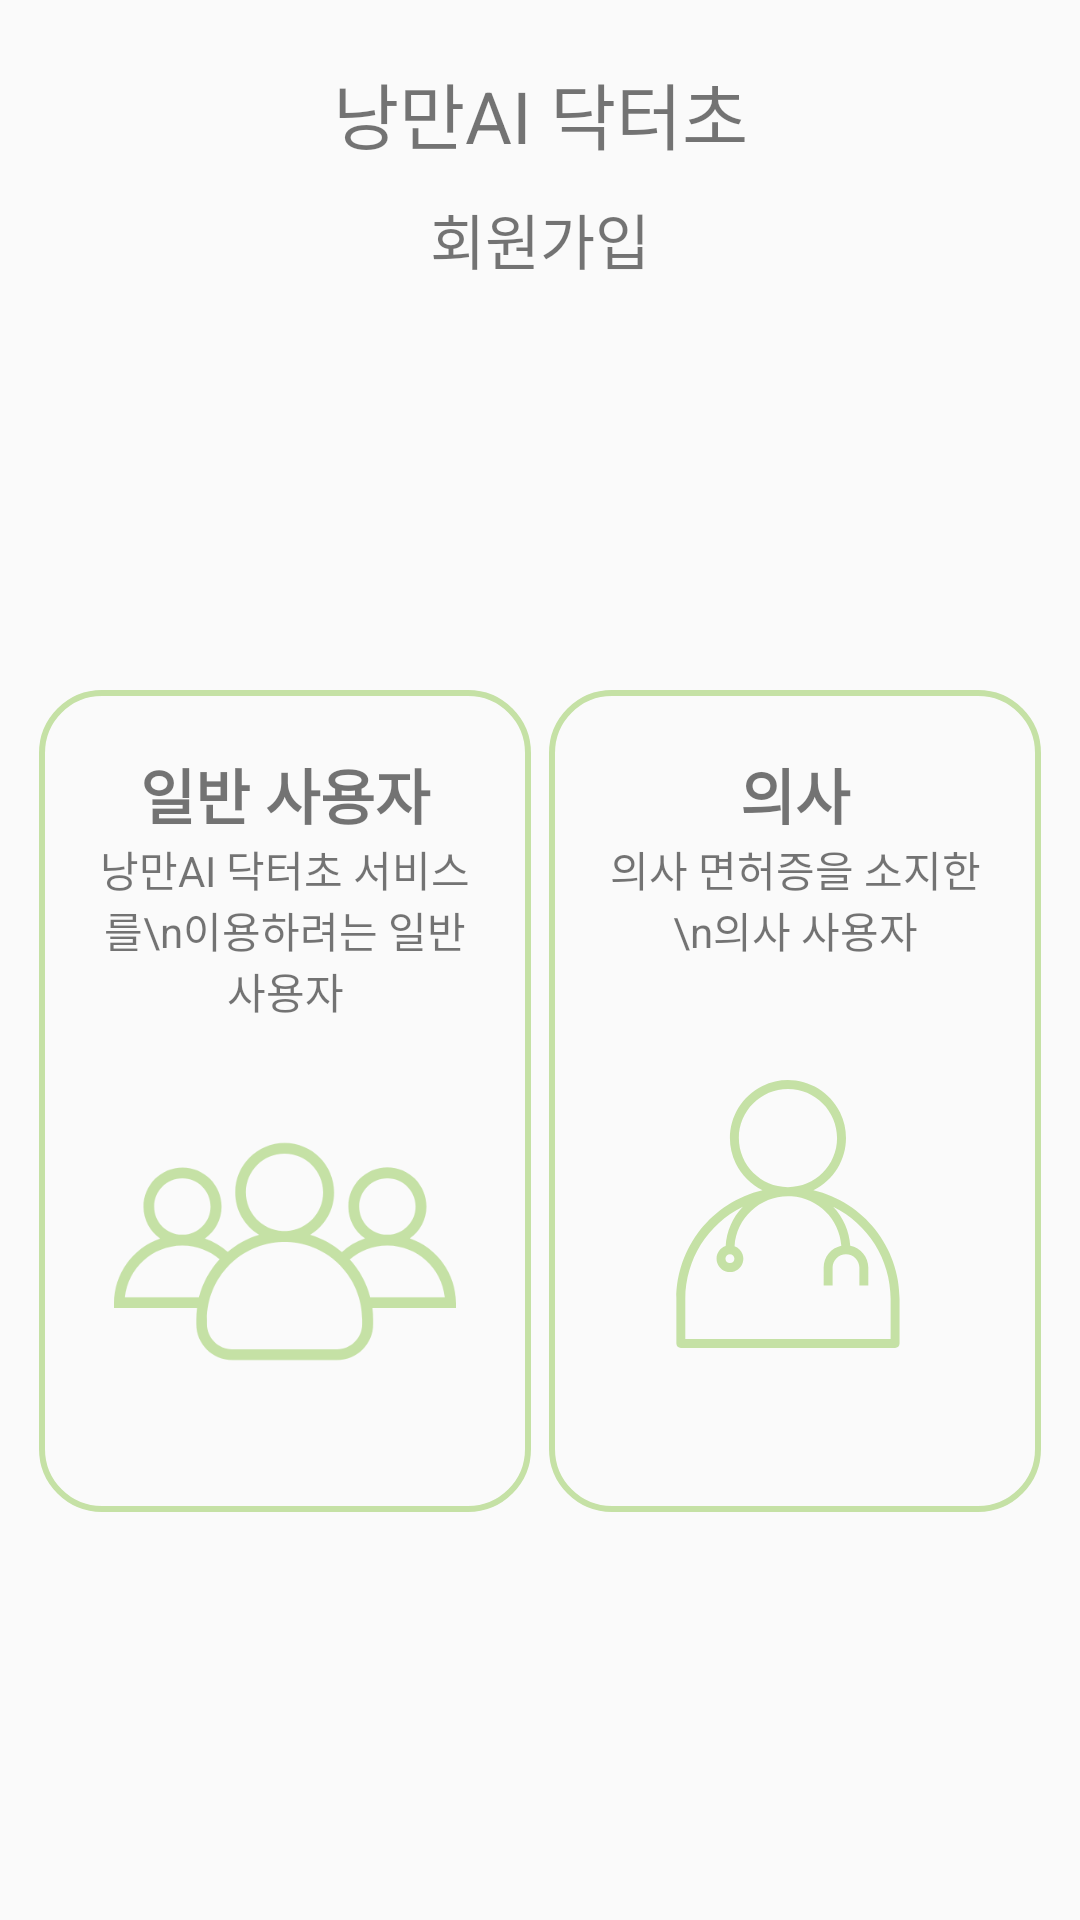

Icons on this 1080w x 1920h Android screen, each with its box as [x1, y1, x2, y2]:
doctor: [676, 1080, 900, 1348]
